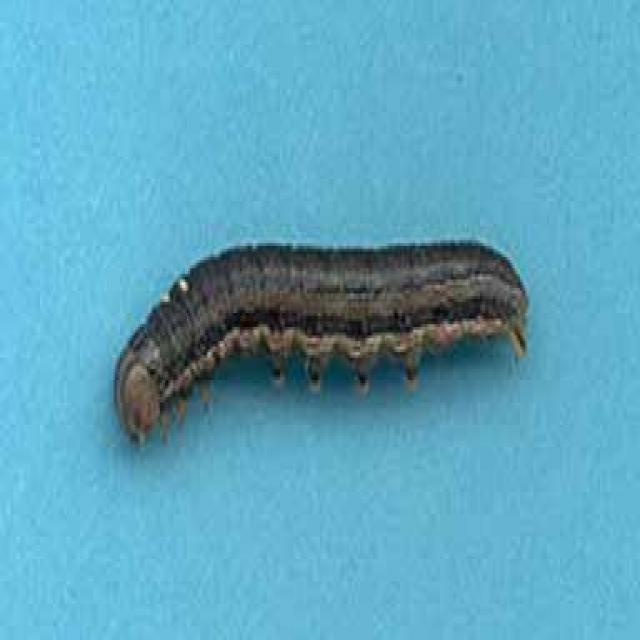armyworm: (117, 230, 534, 438)
